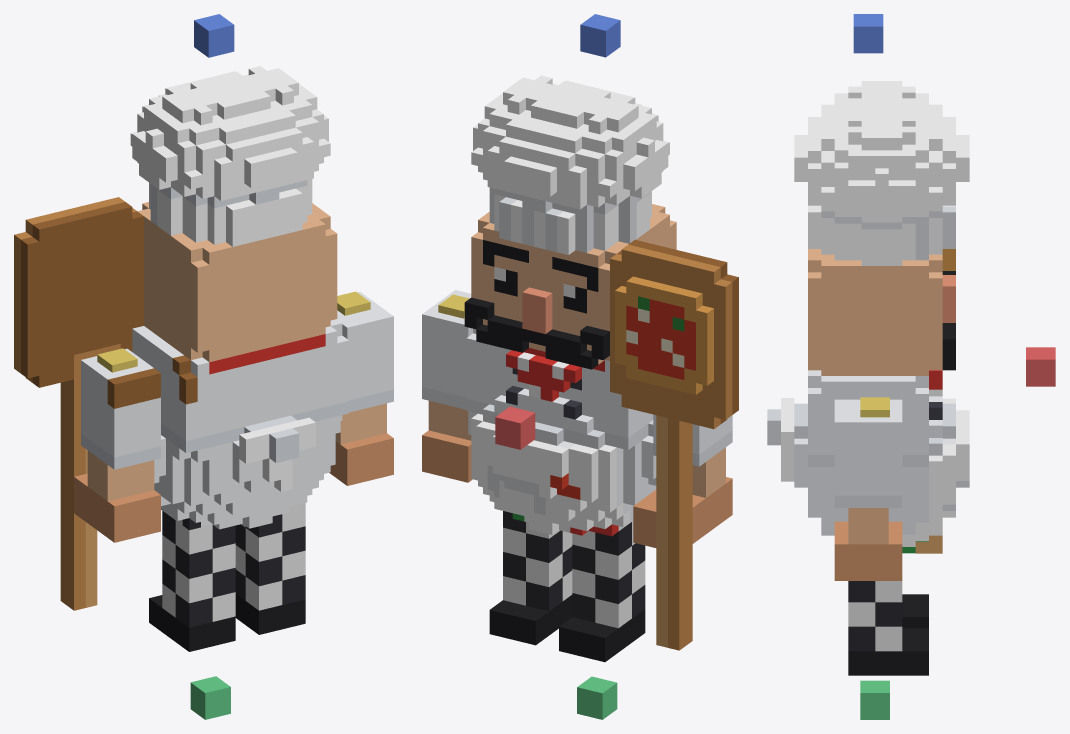
Rendered from PizzaioloTurbino.glb.
3 views of the same model, side by side, from view 1: azimuth 30°, elevation 25°; view 2: azimuth 150°, elevation 25°; view 3: azimuth 270°, elevation 25° (orthographic).
Visible parts, largest first — view 1: PizzaioloTurbino_Head5, PizzaioloTurbino_Arm4, PizzaioloTurbino_Body, PizzaioloTurbino_Leg2, PizzaioloTurbino_Arm3, PizzaioloTurbino_Leg1, PizzaioloTurbino_Top, PizzaioloTurbino_Built, PizzaioloTurbino_Pivot4, PizzaioloTurbino_Pivot3; view 2: PizzaioloTurbino_Head5, PizzaioloTurbino_Arm4, PizzaioloTurbino_Body, PizzaioloTurbino_Leg2, PizzaioloTurbino_Leg1, PizzaioloTurbino_Arm3, PizzaioloTurbino_Top, PizzaioloTurbino_Front, PizzaioloTurbino_Built; view 3: PizzaioloTurbino_Head5, PizzaioloTurbino_Body, PizzaioloTurbino_Arm3, PizzaioloTurbino_Leg1, PizzaioloTurbino_Top, PizzaioloTurbino_Front, PizzaioloTurbino_Built, PizzaioloTurbino_Leg2, PizzaioloTurbino_Arm4, PizzaioloTurbino_Pivot3.
Boxes of the visible parts, x1,y1,x2,y2 form: PizzaioloTurbino_Head5: [130, 66, 337, 362]; PizzaioloTurbino_Arm4: [14, 197, 160, 610]; PizzaioloTurbino_Body: [132, 319, 348, 529]; PizzaioloTurbino_Leg2: [149, 510, 235, 651]; PizzaioloTurbino_Arm3: [329, 292, 393, 485]; PizzaioloTurbino_Leg1: [235, 503, 305, 634]; PizzaioloTurbino_Top: [194, 14, 234, 57]; PizzaioloTurbino_Built: [190, 676, 230, 719]; PizzaioloTurbino_Pivot4: [97, 348, 137, 372]; PizzaioloTurbino_Pivot3: [337, 291, 370, 315]; PizzaioloTurbino_Head5: [464, 75, 676, 369]; PizzaioloTurbino_Arm4: [610, 240, 738, 650]; PizzaioloTurbino_Body: [466, 328, 656, 536]; PizzaioloTurbino_Leg2: [559, 521, 645, 662]; PizzaioloTurbino_Leg1: [489, 511, 572, 645]; PizzaioloTurbino_Arm3: [422, 290, 472, 482]; PizzaioloTurbino_Top: [580, 14, 620, 57]; PizzaioloTurbino_Front: [495, 406, 535, 449]; PizzaioloTurbino_Built: [577, 676, 617, 719]; PizzaioloTurbino_Head5: [794, 81, 969, 375]; PizzaioloTurbino_Body: [767, 370, 969, 553]; PizzaioloTurbino_Arm3: [834, 399, 902, 580]; PizzaioloTurbino_Leg1: [848, 581, 928, 675]; PizzaioloTurbino_Top: [853, 14, 883, 53]; PizzaioloTurbino_Front: [1026, 347, 1055, 386]; PizzaioloTurbino_Built: [860, 680, 889, 719]; PizzaioloTurbino_Leg2: [902, 594, 928, 628]; PizzaioloTurbino_Arm4: [915, 249, 955, 553]; PizzaioloTurbino_Pivot3: [860, 397, 889, 417].
Size of the model in its own units: 3.18 by 6.45 by 2.43.
Materials: 1 (1 with a texture image).
